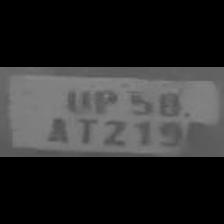1: (128, 118, 154, 146)
2: (97, 116, 128, 146)
5: (122, 86, 154, 116)
A: (40, 112, 72, 144)
P: (90, 84, 122, 114)
T: (70, 114, 98, 144)
U: (60, 84, 92, 114)
